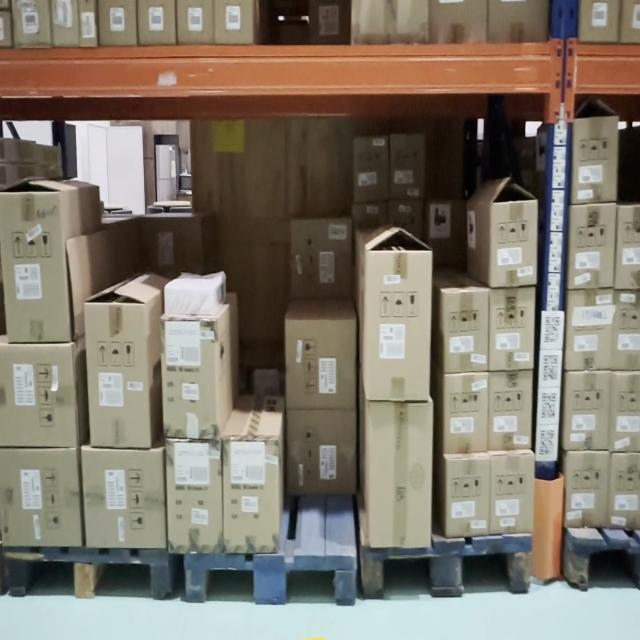box: (4, 196, 72, 348), (366, 250, 432, 396), (368, 406, 432, 545), (0, 452, 83, 541), (2, 345, 73, 447), (81, 455, 163, 541), (94, 304, 144, 444), (286, 326, 354, 411), (166, 322, 218, 432), (170, 440, 220, 551), (226, 440, 276, 547), (289, 222, 349, 306), (568, 201, 617, 291), (489, 290, 532, 371), (573, 120, 616, 201), (444, 294, 487, 373), (564, 373, 610, 446), (568, 294, 611, 372), (494, 207, 535, 286), (446, 379, 490, 452), (491, 455, 534, 529), (492, 373, 532, 452), (568, 449, 608, 521), (449, 462, 487, 535)
